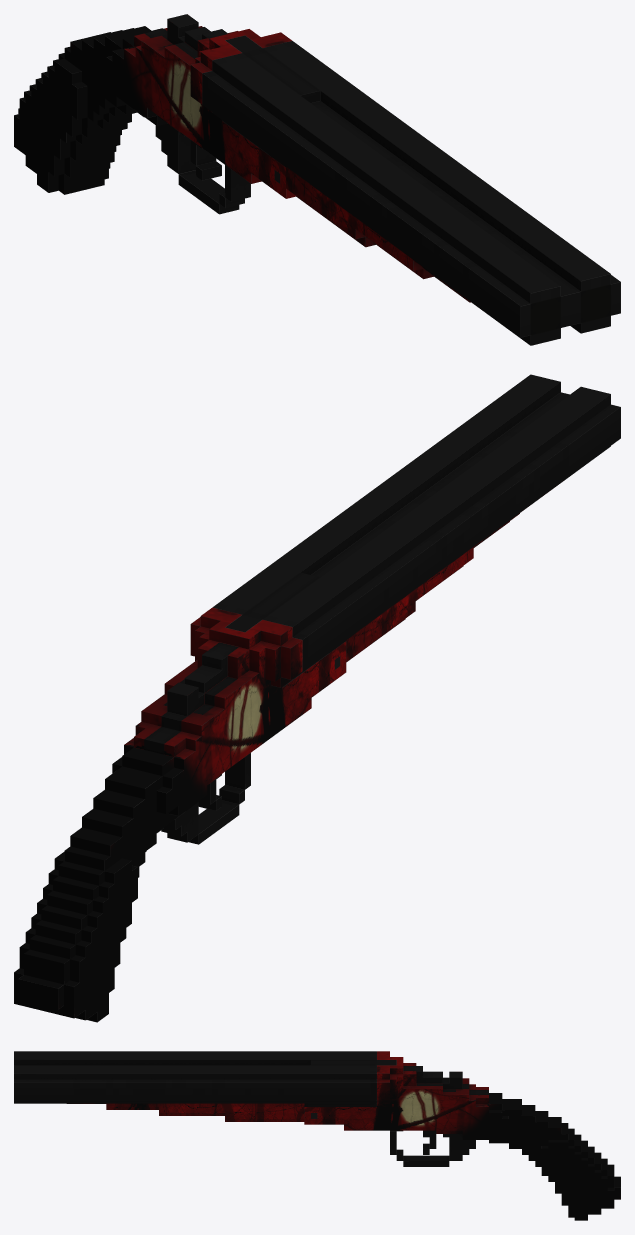
Rendered from RD_DUPLET_HALLOWEEN2021.glb.
The picture shows the model from 3 angles, top to bottom: view 1: azimuth 30°, elevation 25°; view 2: azimuth 150°, elevation 25°; view 3: azimuth 270°, elevation 25°; orthographic projection. The views are drawn at different scales.
Parts seen in each view (by area): view 1: SAWED_OFF_BARREL, SAWED_OFF; view 2: SAWED_OFF, SAWED_OFF_BARREL; view 3: SAWED_OFF_BARREL, SAWED_OFF.
Boxes of the visible parts, left/top/right/bottom form: SAWED_OFF_BARREL: left=202, top=35, right=620, bottom=345; SAWED_OFF: left=14, top=14, right=295, bottom=214; SAWED_OFF: left=14, top=607, right=346, bottom=1022; SAWED_OFF_BARREL: left=212, top=374, right=620, bottom=686; SAWED_OFF_BARREL: left=14, top=1051, right=396, bottom=1121; SAWED_OFF: left=304, top=1051, right=620, bottom=1220.
Bounding box in the file's own units: 0.0984 × 0.2461 × 0.9055.
1 material, 1 textured.
